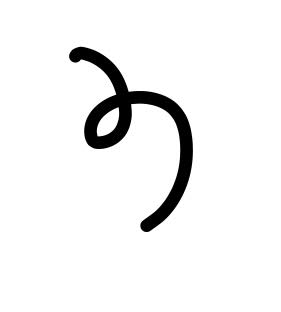a: (57, 33, 150, 162)
